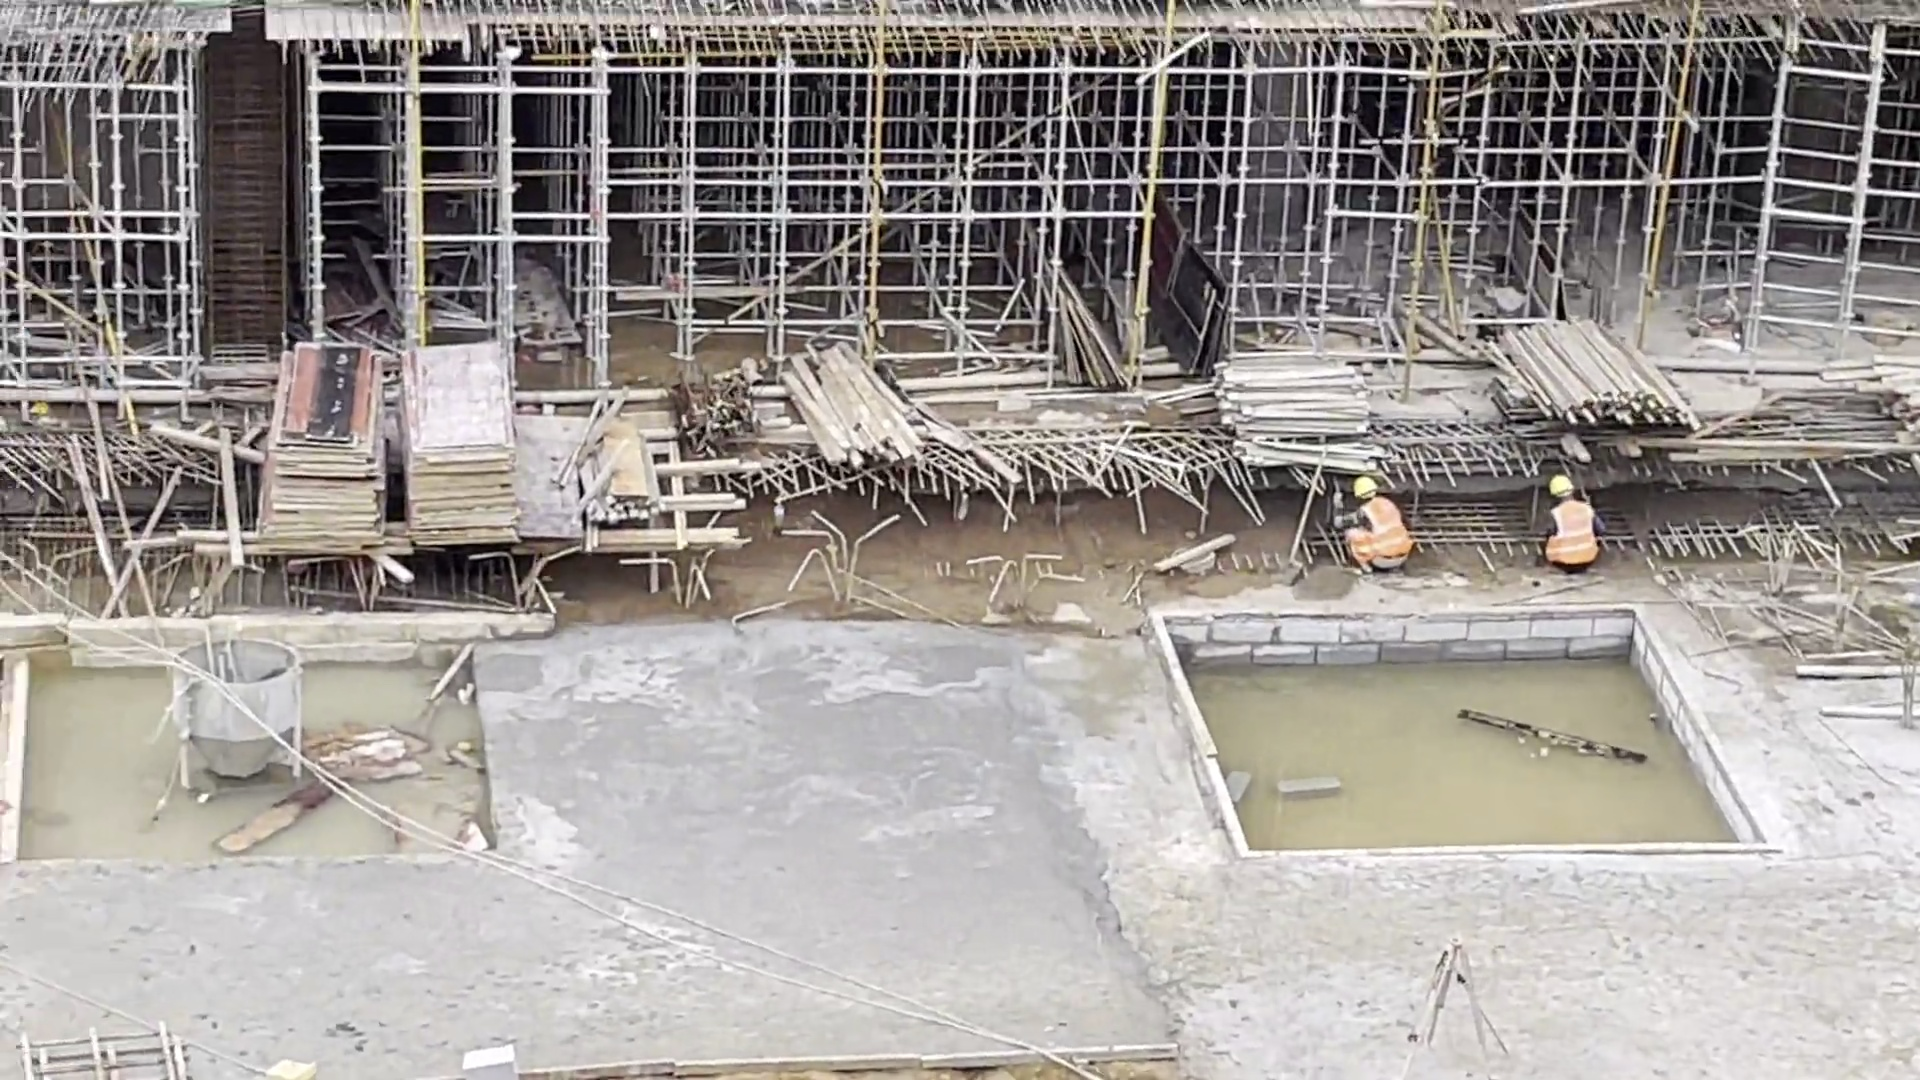board: (259, 332, 523, 553)
helmet: (1351, 468, 1383, 497), (1549, 473, 1578, 497)
person: (1335, 464, 1431, 589), (1533, 457, 1616, 585)
vest: (1536, 504, 1609, 574), (1349, 508, 1414, 564)
wood: (1200, 331, 1377, 471), (1495, 313, 1701, 432), (788, 339, 924, 465)
